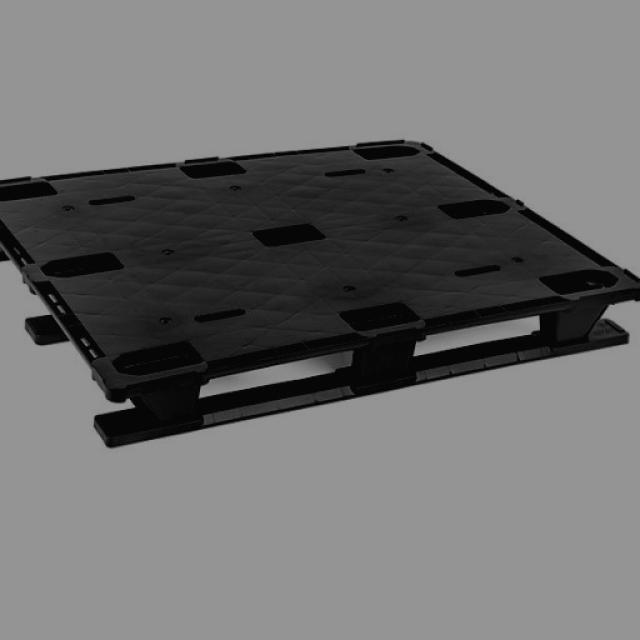non-igps: (0, 135, 640, 453)
